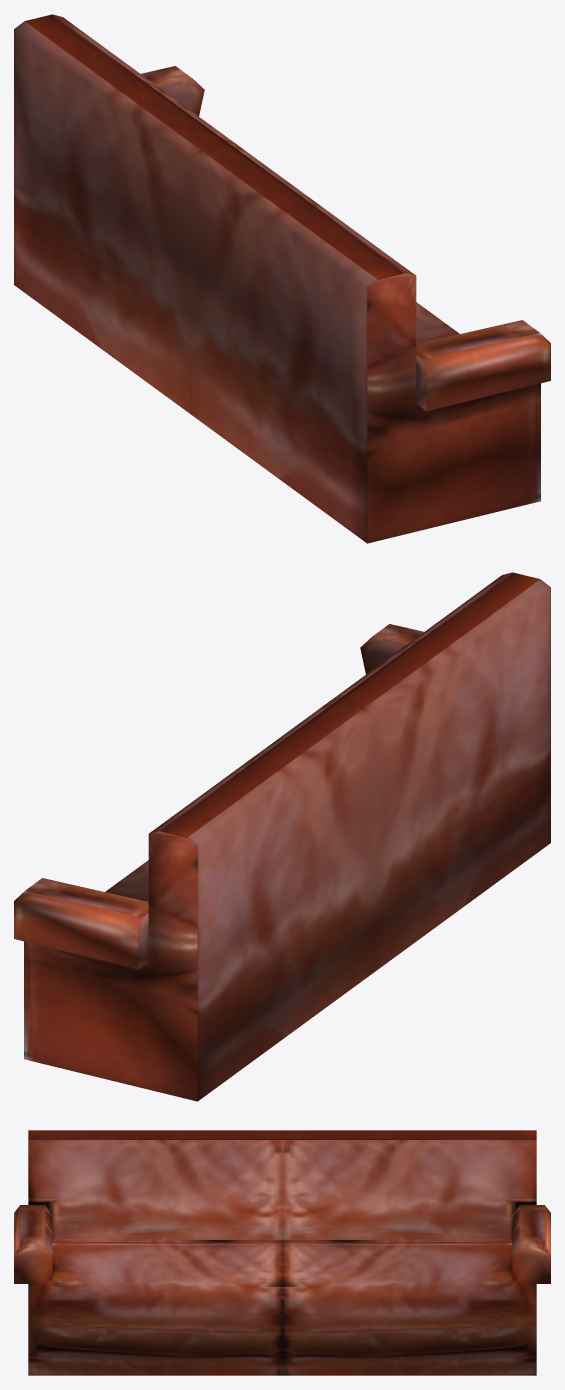
File: Couch2.fbx
3 views of the same model, one above another, from view 1: azimuth 30°, elevation 25°; view 2: azimuth 150°, elevation 25°; view 3: azimuth 270°, elevation 25° (orthographic). The views are drawn at different scales.
Visible parts, largest first — view 1: Cube; view 2: Cube; view 3: Cube.
Boxes of the visible parts, box(x1,y1,x2,y2) form: Cube: box(14, 14, 550, 543); Cube: box(14, 572, 550, 1101); Cube: box(14, 1130, 550, 1375).
Bounding box in the file's own units: 117 × 168 × 434.
